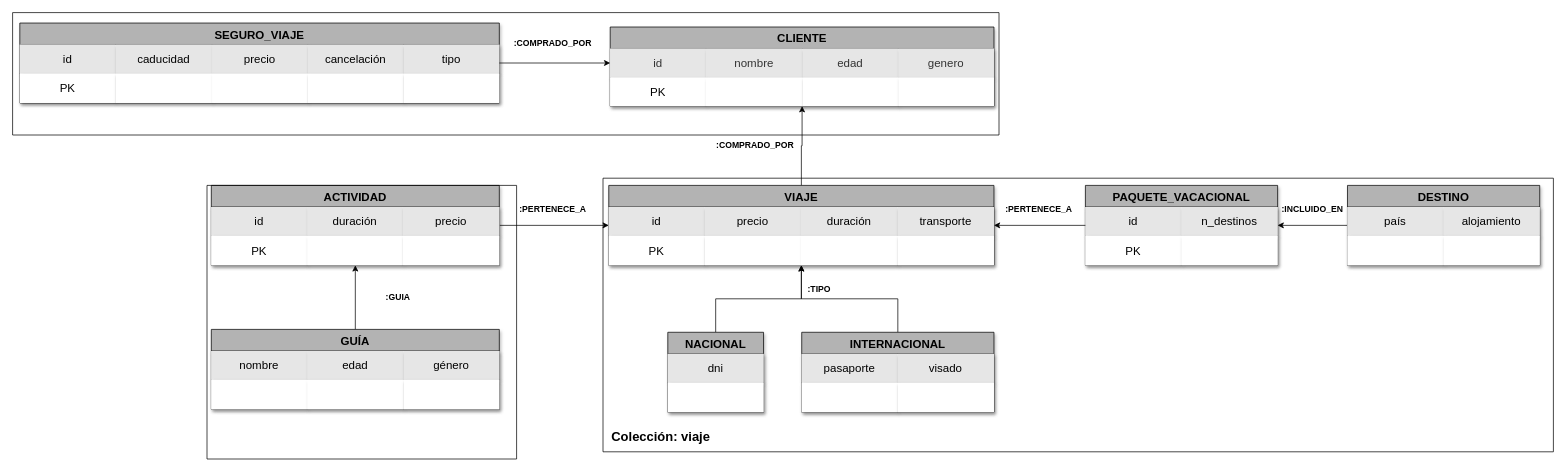
The diagram is 1566 pixels wide and 472 high, and some of its shapes have lost their labels. Each missing label, with the centre of its shape:
"Colección: actividad" belongs at point 361,322.
"Colección: cliente" belongs at point 505,73.
